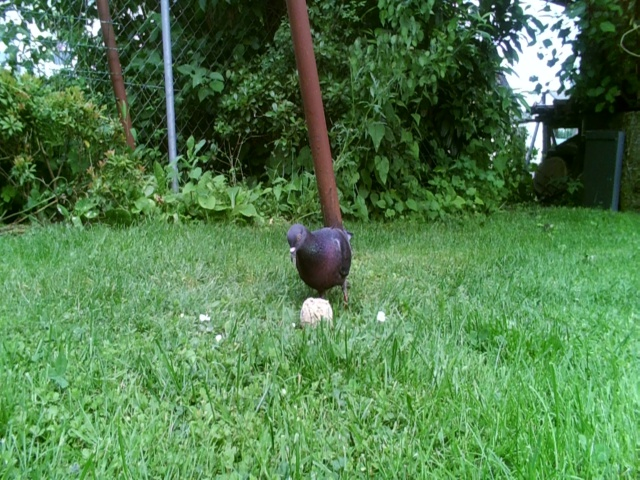Pigeon: (277, 209, 373, 310)
